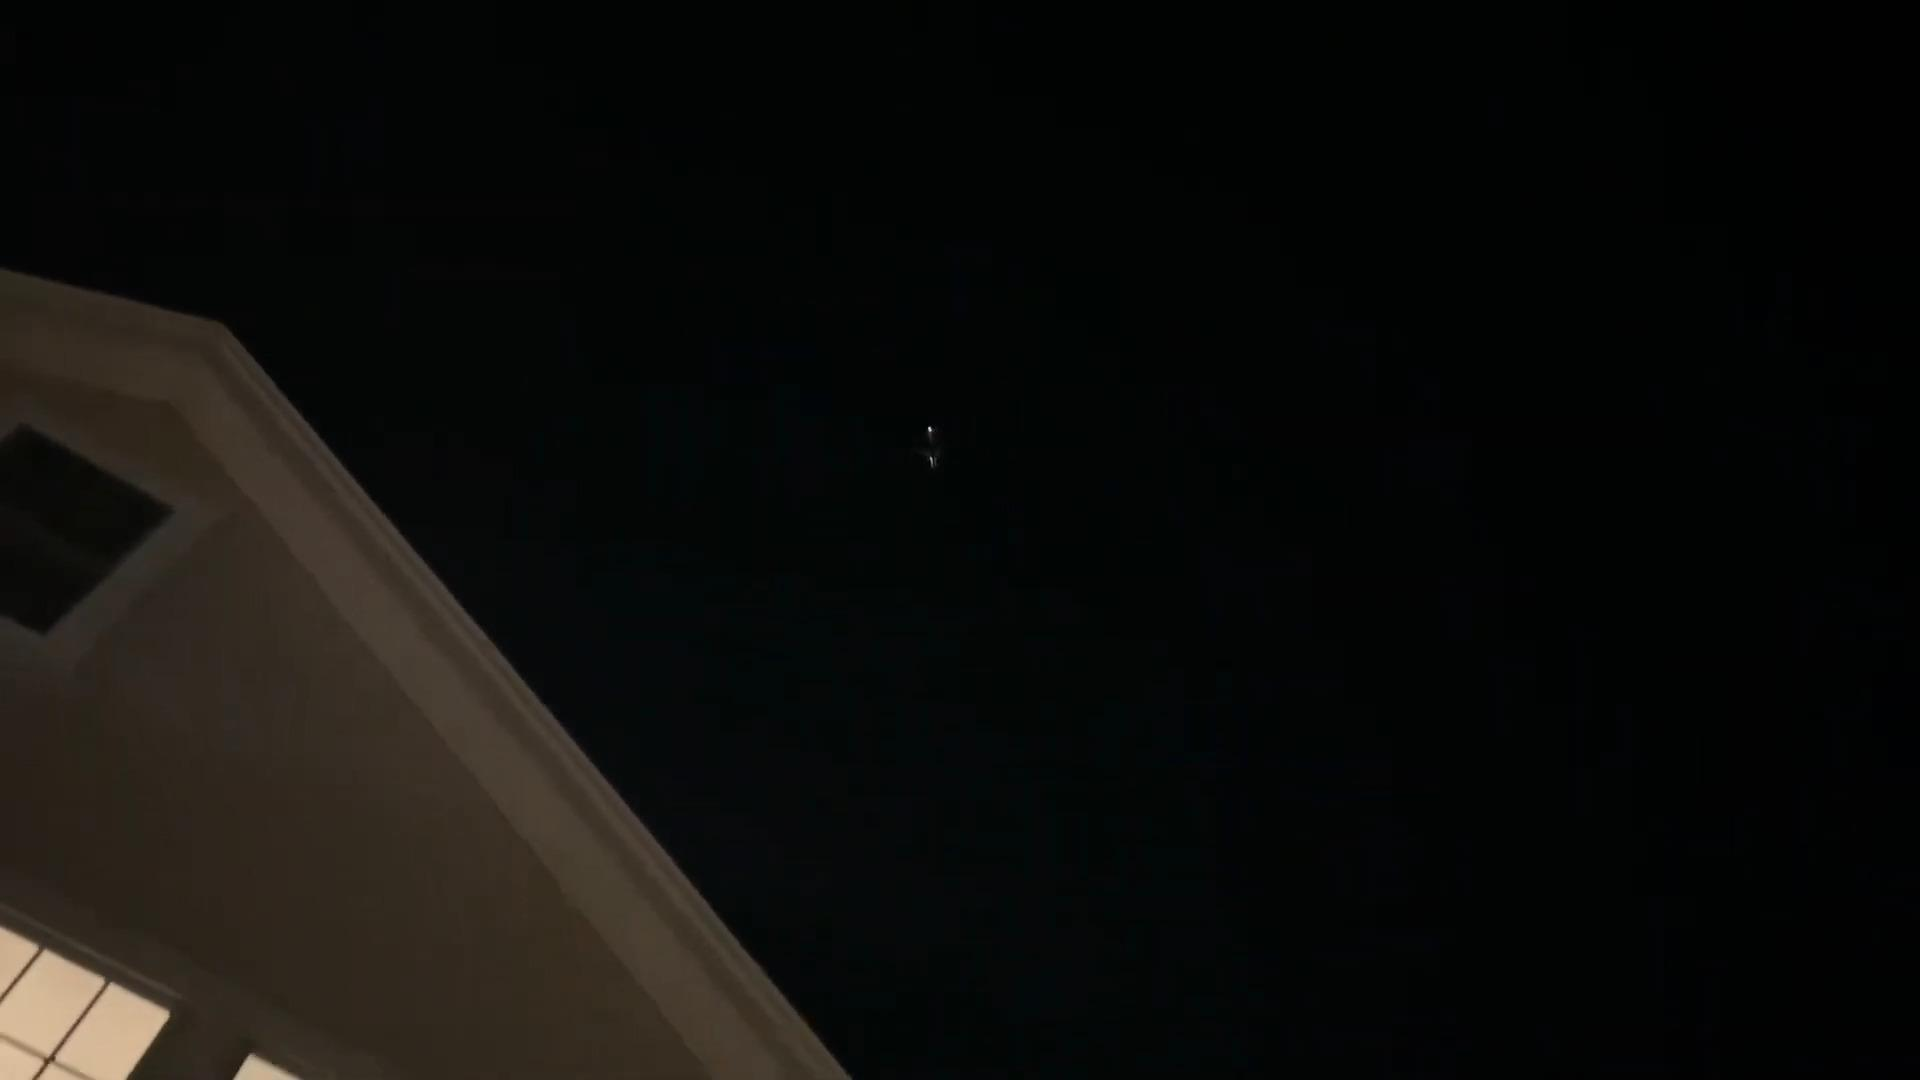Plane: (895, 406, 973, 493)
